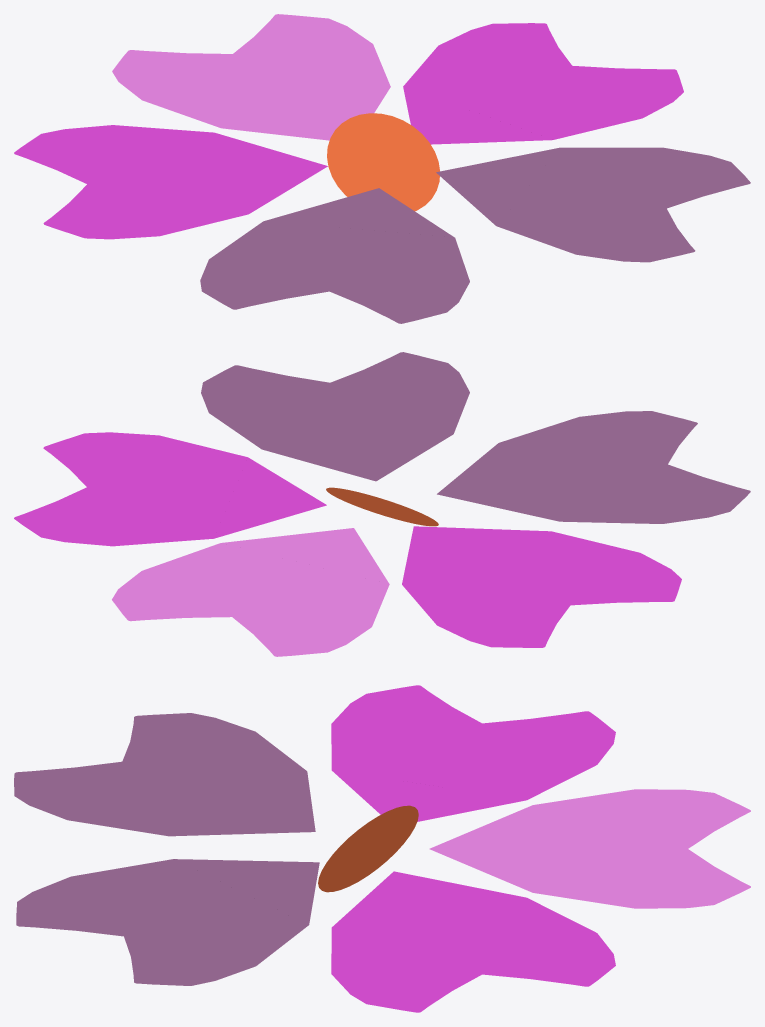
Rendered from CherryBlossomPetal01 1.fbx.
The picture shows the model from 3 angles, top to bottom: view 1: azimuth 30°, elevation 25°; view 2: azimuth 150°, elevation 25°; view 3: azimuth 270°, elevation 25°; orthographic projection. The views are drawn at different scales.
Visible parts, largest first — view 1: Petal2, Petal4, Petal3, Petal1, Cylinder; view 2: Petal2, Petal1, Petal4, Petal3, Cylinder; view 3: Petal2, Petal3, Petal1, Petal4, Cylinder.
Part boxes in pixels (x1=…): Petal2: x1=14, y1=23, x2=683, y2=239; Petal4: x1=200, y1=188, x2=469, y2=323; Petal3: x1=436, y1=147, x2=750, y2=262; Petal1: x1=112, y1=14, x2=390, y2=140; Cylinder: x1=327, y1=113, x2=439, y2=211; Petal2: x1=14, y1=432, x2=681, y2=647; Petal1: x1=112, y1=528, x2=389, y2=656; Petal4: x1=437, y1=411, x2=750, y2=523; Petal3: x1=201, y1=352, x2=469, y2=481; Cylinder: x1=326, y1=487, x2=438, y2=526; Petal2: x1=331, y1=685, x2=615, y2=1012; Petal3: x1=16, y1=859, x2=319, y2=985; Petal1: x1=429, y1=789, x2=750, y2=908; Petal4: x1=14, y1=713, x2=315, y2=836; Cylinder: x1=318, y1=805, x2=418, y2=892.
Bounding box in the file's own units: 745 × 72.78 × 710.
